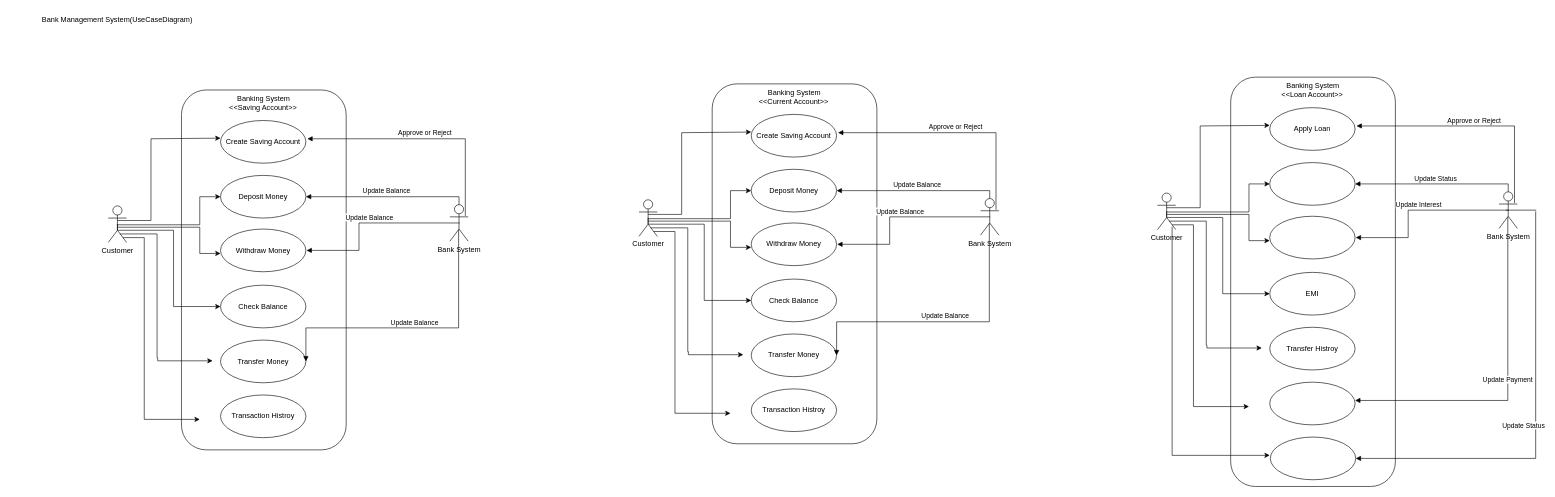
This 1555x497 diagram has some shape labels left out. Here are the shapes that lost their labels. From the top down, the centre of each, then its label:
the point at 1312,183: Check Status
the point at 1312,237: Interest Rate
the point at 1312,403: Partial Payment
the point at 1313,458: Close Loan
